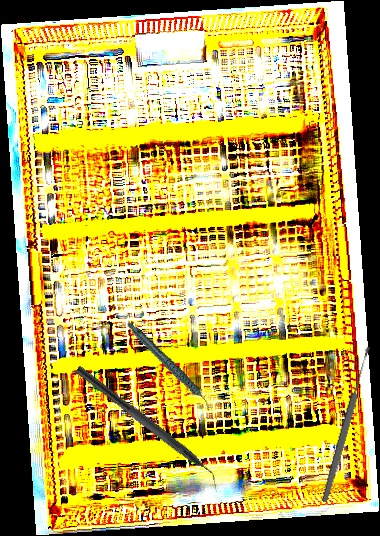Chopper: (67, 365, 228, 494)
Handpiece: (126, 308, 213, 425)
Surgical Spoon: (319, 345, 374, 504)
